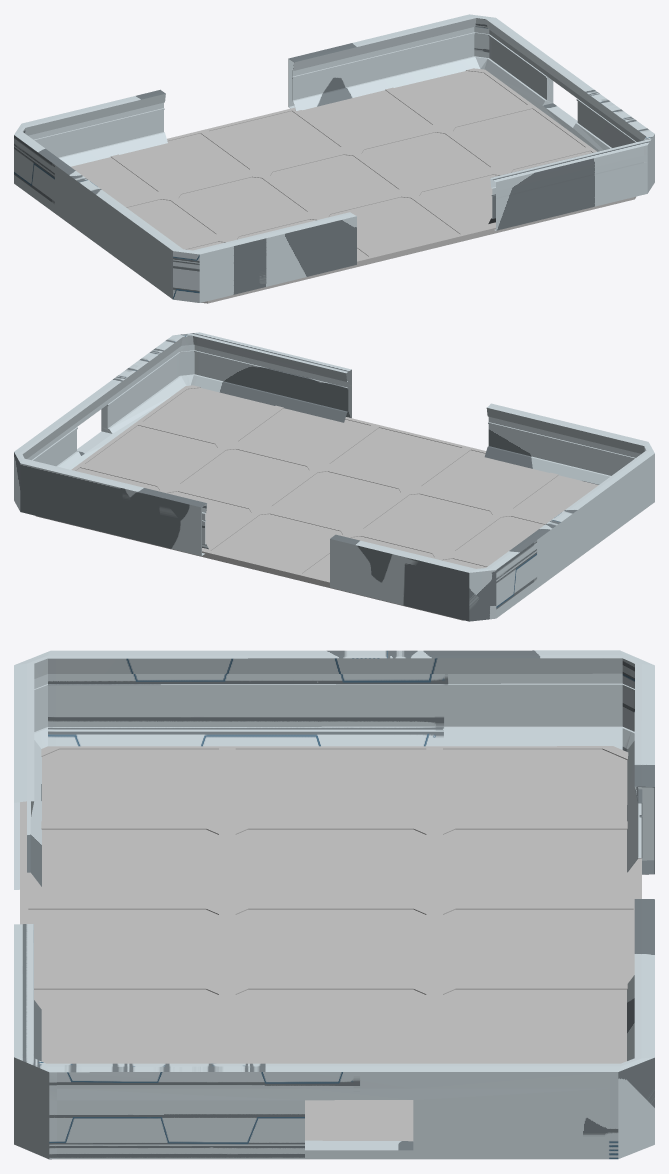
Rendered from Labor_Schacht.FBX.
3 views of the same model, one above another, from view 1: azimuth 30°, elevation 25°; view 2: azimuth 150°, elevation 25°; view 3: azimuth 270°, elevation 25° (orthographic). The views are drawn at different scales.
Visible parts, largest first — view 1: Labor_Boden_012, Labor_008; view 2: Labor_Boden_012, Labor_008; view 3: Labor_Boden_012, Labor_008.
Part boxes in pixels (x1,y1,x2,y2): Labor_Boden_012: [71, 68, 635, 303]; Labor_008: [14, 14, 654, 302]; Labor_Boden_012: [35, 385, 598, 620]; Labor_008: [14, 332, 654, 621]; Labor_Boden_012: [20, 746, 641, 1141]; Labor_008: [14, 650, 654, 1159].
Size of the model in its own units: 30.82 by 19.79 by 3.23.
